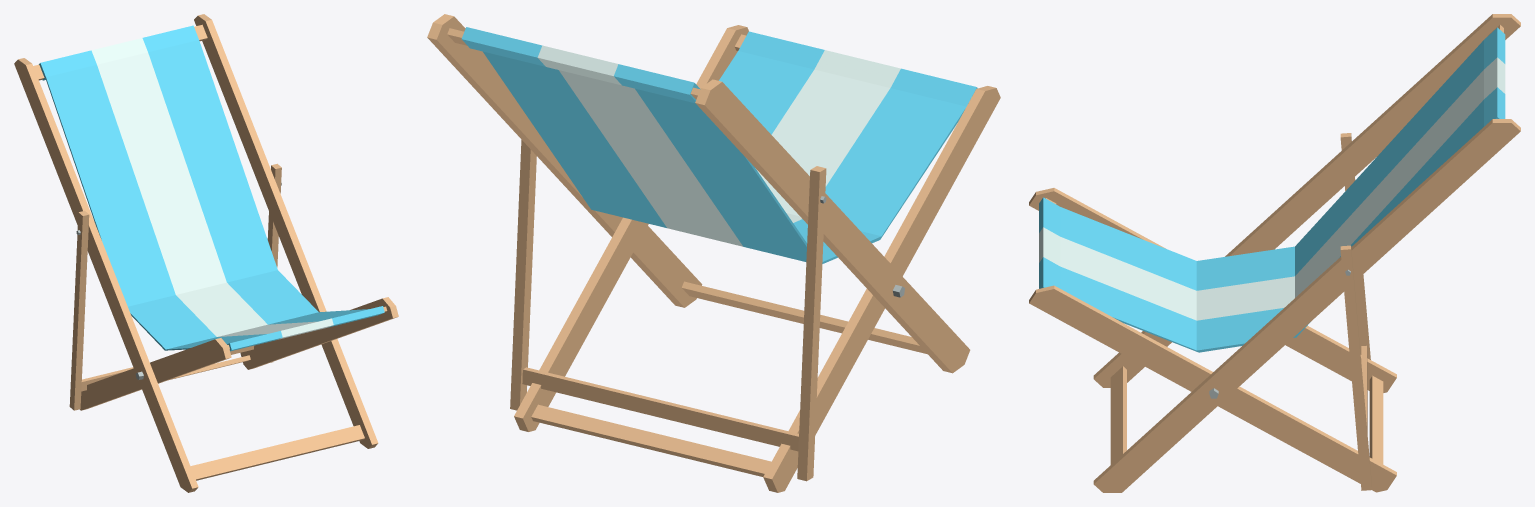
Rendered from ChaiseLongue_A.fbx.
3 views of the same model, side by side, from view 1: azimuth 30°, elevation 25°; view 2: azimuth 150°, elevation 25°; view 3: azimuth 270°, elevation 25° (orthographic). The views are drawn at different scales.
Parts seen in each view (by area): view 1: ChaiseLongue_A; view 2: ChaiseLongue_A; view 3: ChaiseLongue_A.
Part boxes in pixels (x1,y1,x2,y2): ChaiseLongue_A: (14,14,398,492); ChaiseLongue_A: (427,14,1000,492); ChaiseLongue_A: (1029,14,1520,492).
Bounding box in the file's own units: 63.32 × 92.77 × 111.
